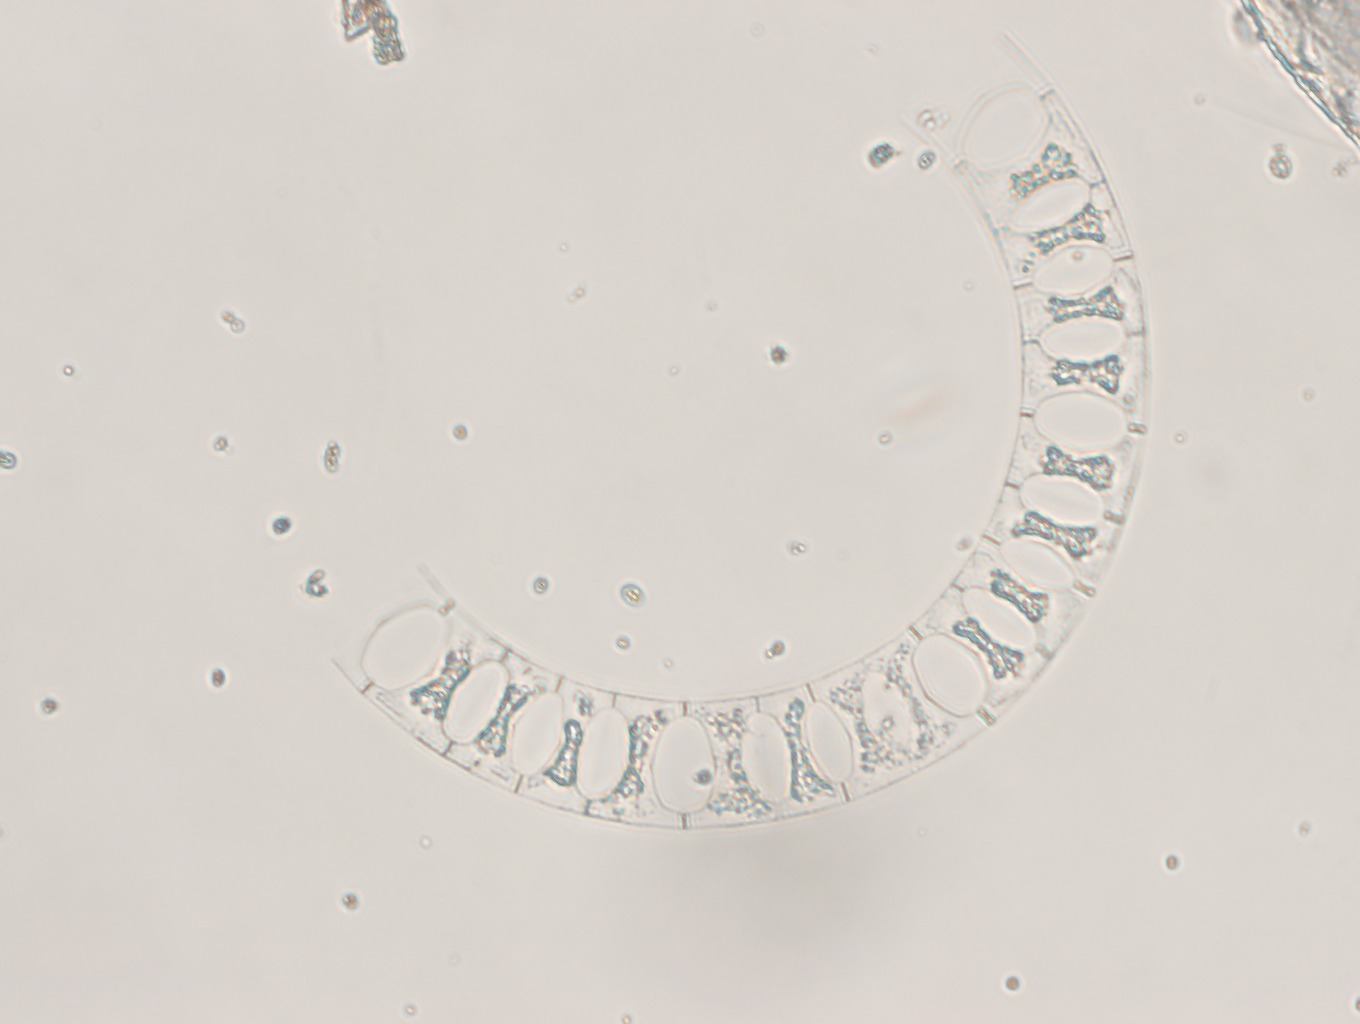eucampia: (299, 18, 1164, 841)
